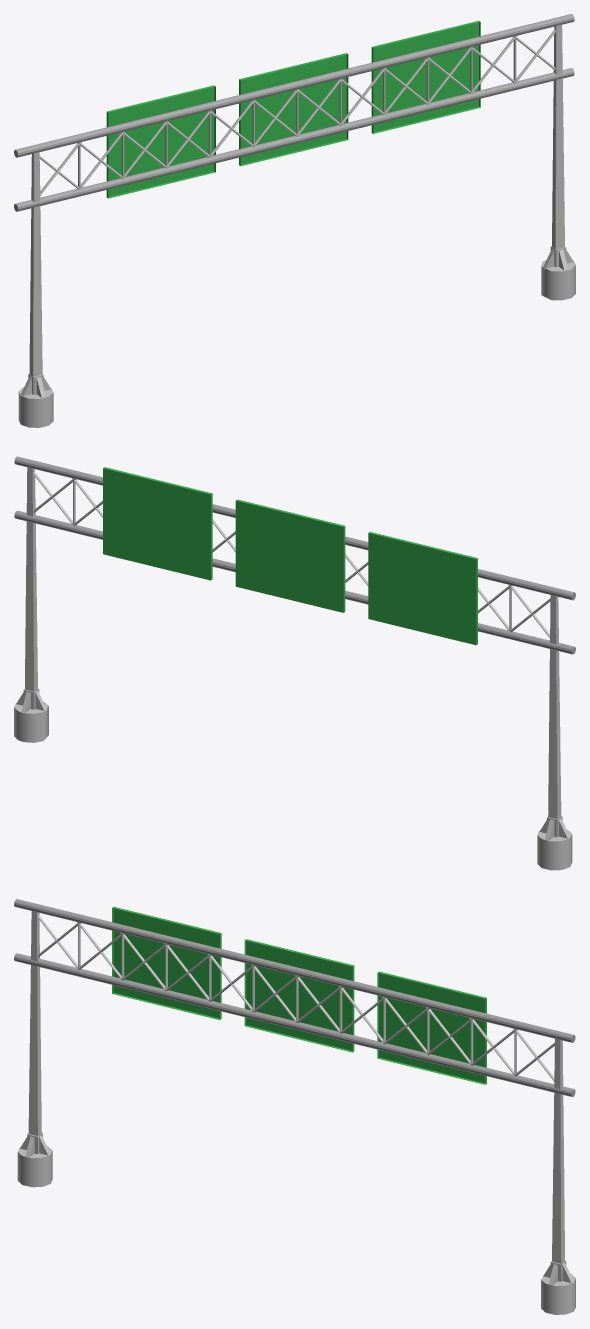
Rendered from Road Billboard.fbx.
3 renders of one model, top to bottom at view 1: azimuth 30°, elevation 25°; view 2: azimuth 150°, elevation 25°; view 3: azimuth 330°, elevation 25°, orthographic.
Visible parts, largest first — view 1: pCylinder3, HighwaySign_MainPost_L1, HighwaySign_Board002, HighwaySign_Board003, HighwaySign_Board001, HighwaySign_Post_Up037; view 2: HighwaySign_Board002, HighwaySign_Board001, HighwaySign_Board003, HighwaySign_MainPost_L1, pCylinder3, HighwaySign_Post_Up037; view 3: pCylinder3, HighwaySign_MainPost_L1, HighwaySign_Board002, HighwaySign_Board003, HighwaySign_Board001, HighwaySign_Post_Up037.
Part boxes in pixels (box(x1,y1,x2,y2)): pCylinder3: box(14, 14, 574, 211); HighwaySign_MainPost_L1: box(18, 24, 575, 427); HighwaySign_Board002: box(239, 53, 348, 166); HighwaySign_Board003: box(371, 20, 480, 133); HighwaySign_Board001: box(106, 85, 215, 198); HighwaySign_Post_Up037: box(39, 29, 555, 195); HighwaySign_Board002: box(235, 499, 345, 612); HighwaySign_Board001: box(368, 532, 477, 645); HighwaySign_Board003: box(103, 467, 212, 580); HighwaySign_MainPost_L1: box(14, 467, 572, 870); pCylinder3: box(14, 456, 575, 654); HighwaySign_Post_Up037: box(33, 471, 550, 637); pCylinder3: box(14, 899, 575, 1096); HighwaySign_MainPost_L1: box(17, 911, 575, 1314); HighwaySign_Board002: box(244, 939, 354, 1052); HighwaySign_Board003: box(377, 971, 486, 1084); HighwaySign_Board001: box(112, 907, 221, 1019); HighwaySign_Post_Up037: box(38, 915, 554, 1081).
Bounding box in the file's own units: 1327 × 656 × 68.87.
